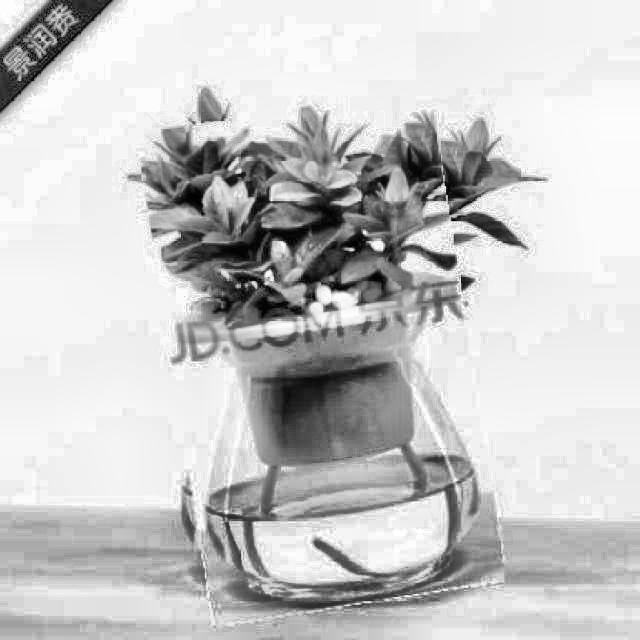plants: (154, 98, 488, 616)
